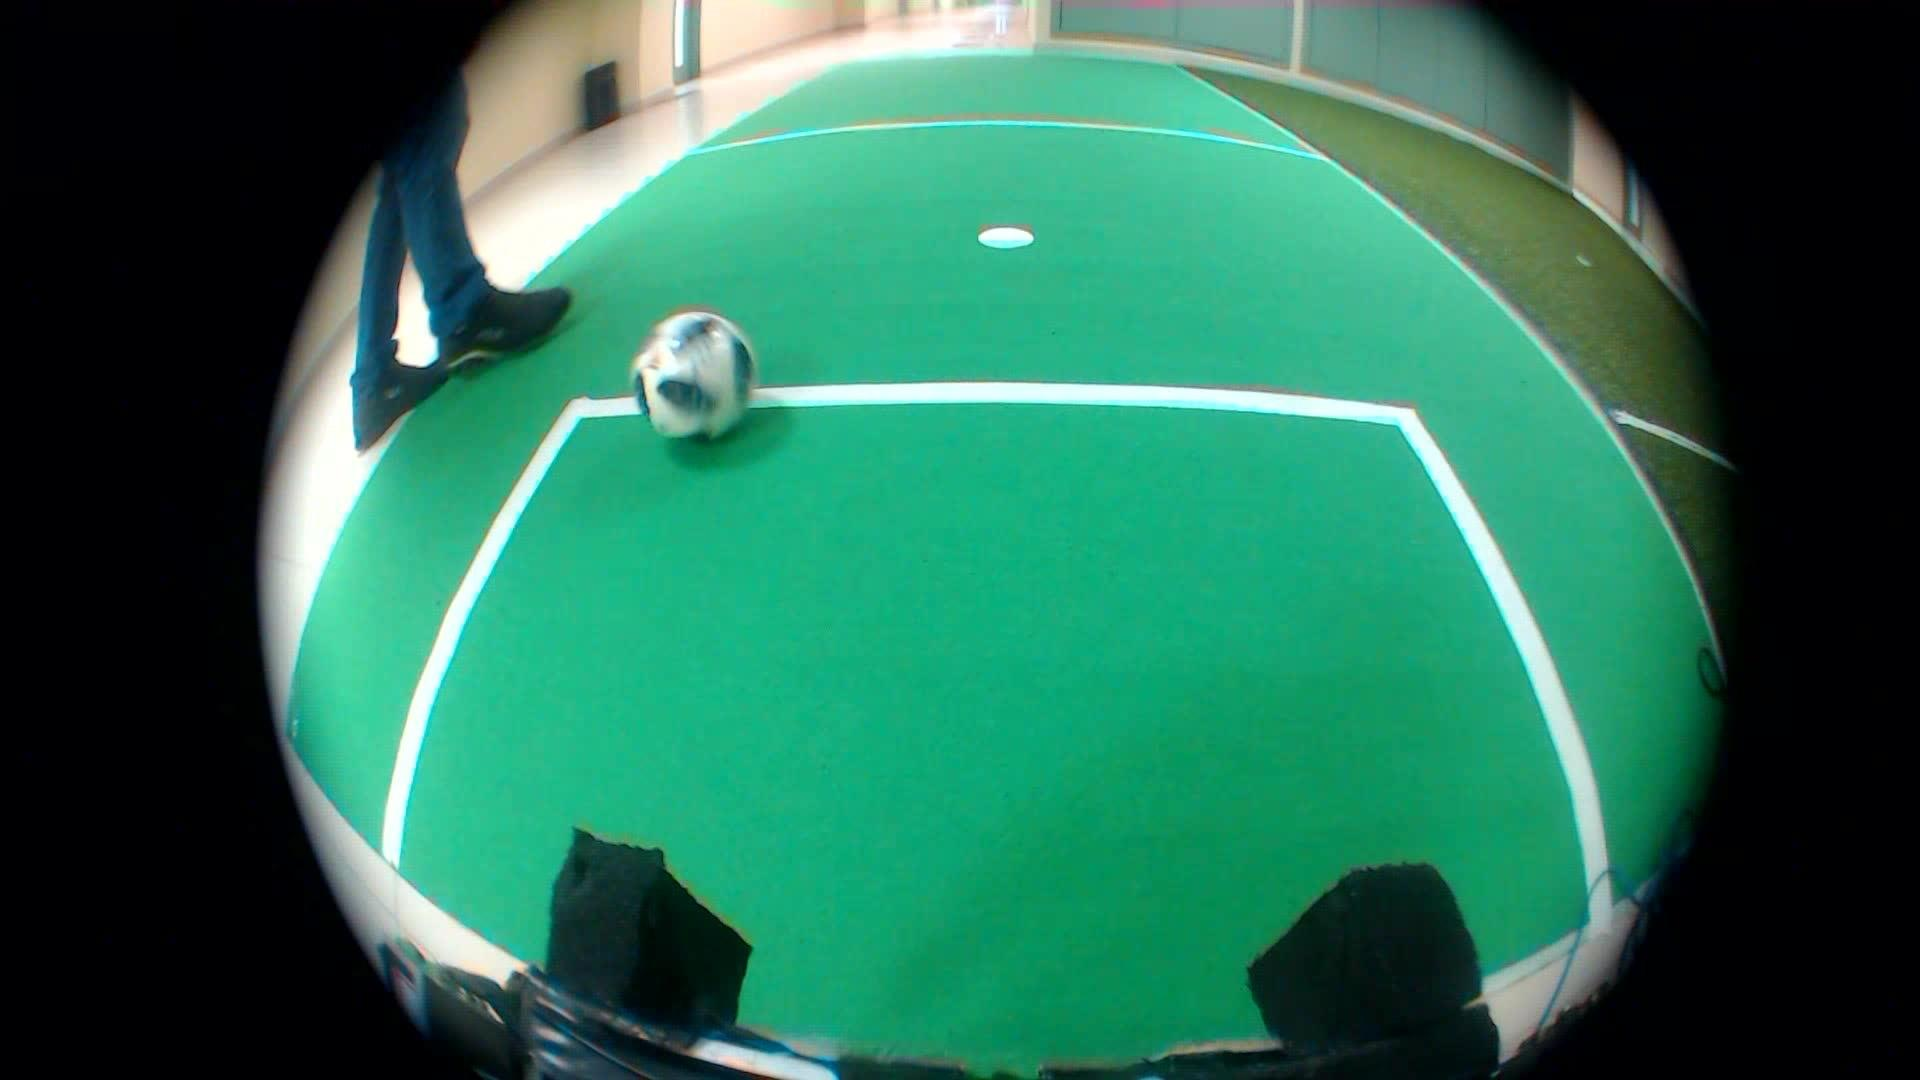ball: (617, 295, 775, 455)
